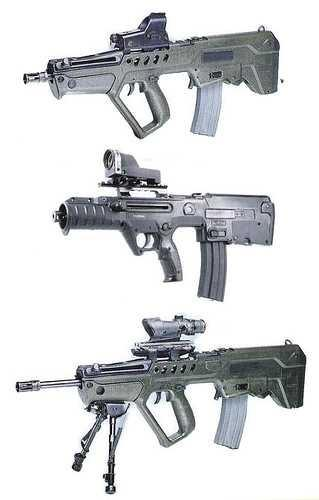heavyweapon: (16, 301, 319, 480), (19, 127, 302, 305), (11, 0, 307, 155)
